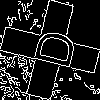D: (25, 25, 77, 71)
